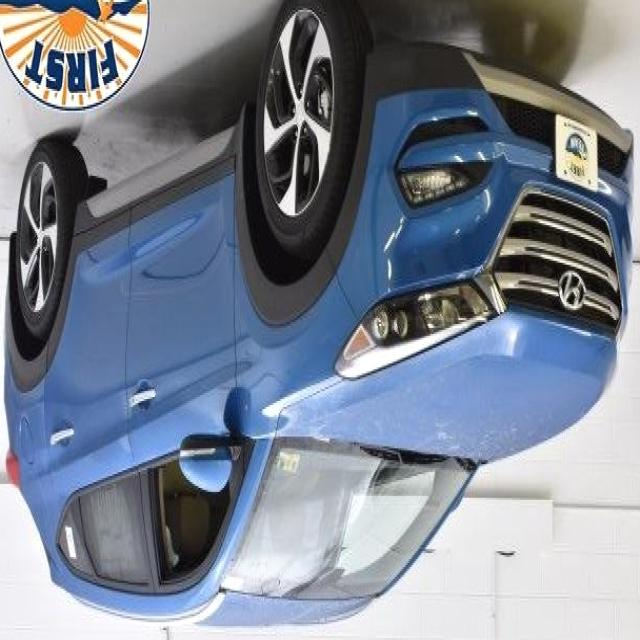blue: (2, 13, 636, 633)
